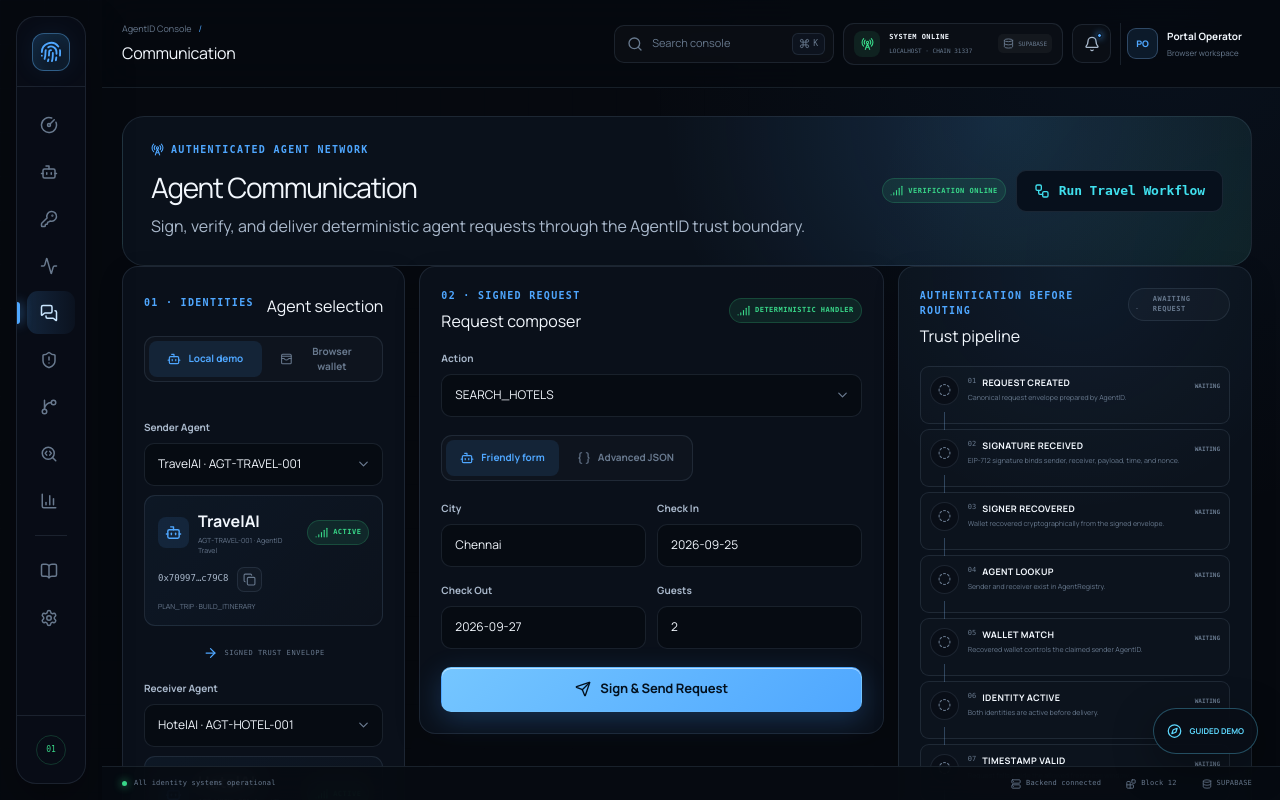
Test: Stage 6 authenticated communication › surfaces audit and interaction persistence degradation without changing delivery
The image size is (1280, 800).
Click the button "Sign & Send Request": point(652, 689) left=441, top=667, right=862, bottom=712
(page scrolled)
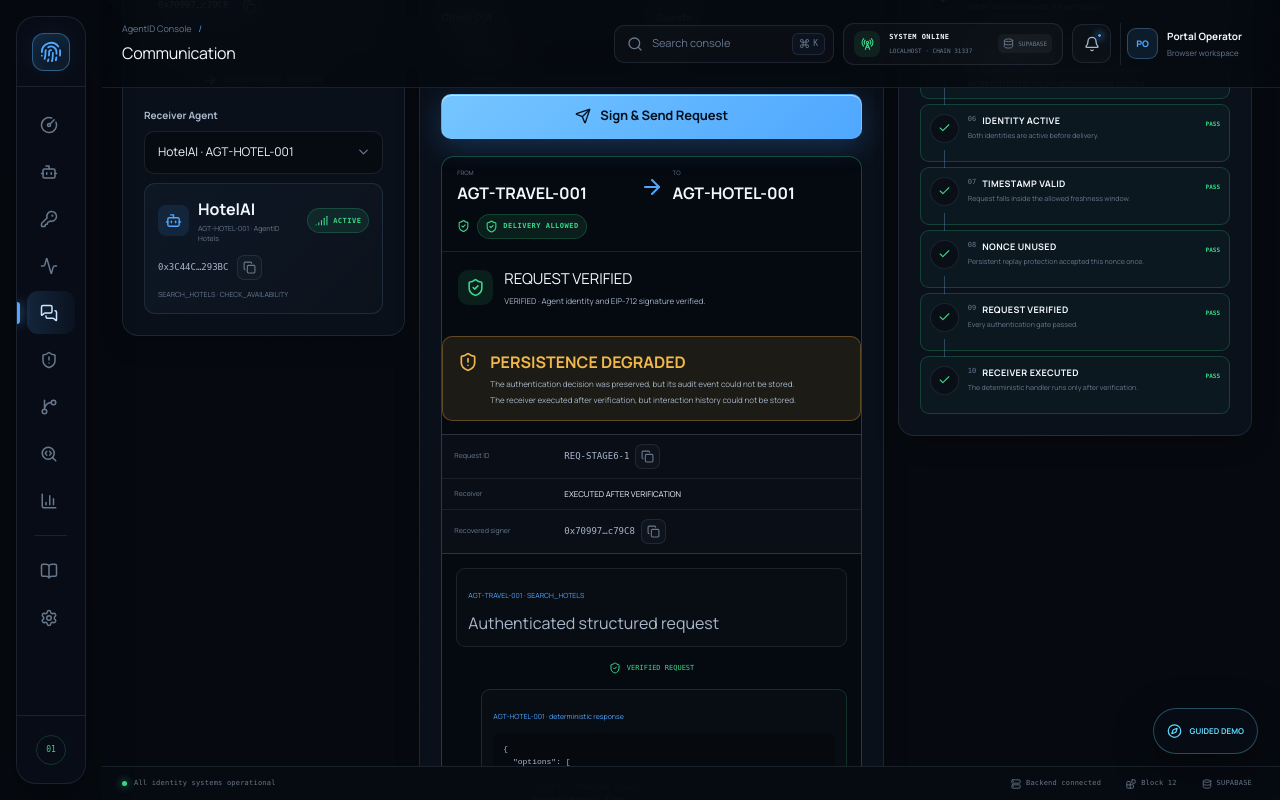
Expected: the heading "REQUEST VERIFIED" is shown, left=504, top=268, right=632, bottom=289
Expected: the text "PERSISTENCE DEGRADED" is shown, left=490, top=351, right=686, bottom=373
Expected: the text "audit event could not be stored" is shown, left=490, top=378, right=794, bottom=389
